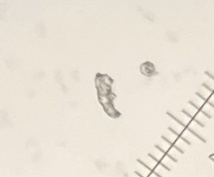microplastic: (95, 72, 121, 118), (140, 61, 158, 77)
